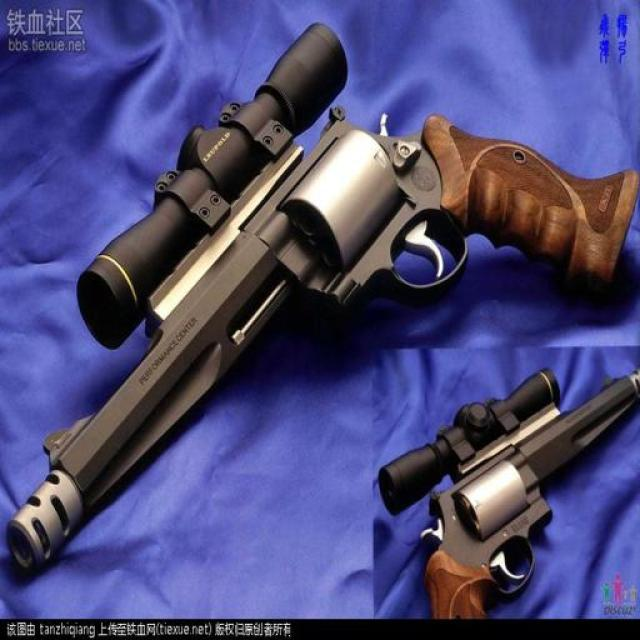pistol: (15, 70, 637, 579), (379, 376, 640, 617)
